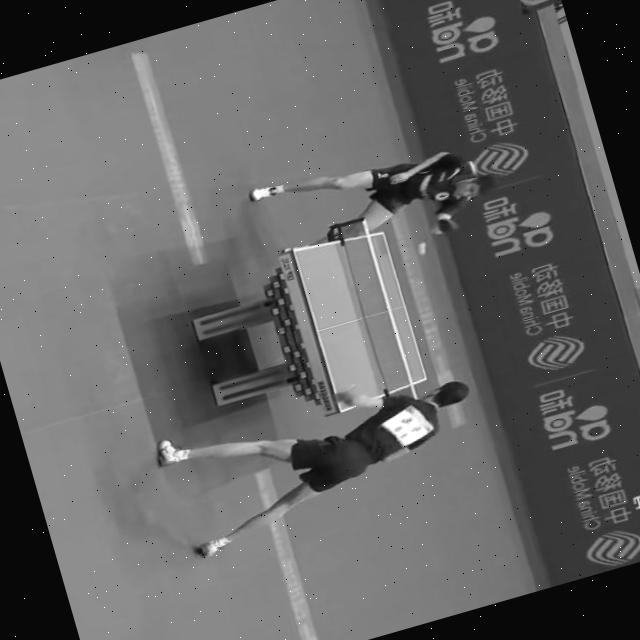ping-pong-ball: (409, 238, 434, 258)
